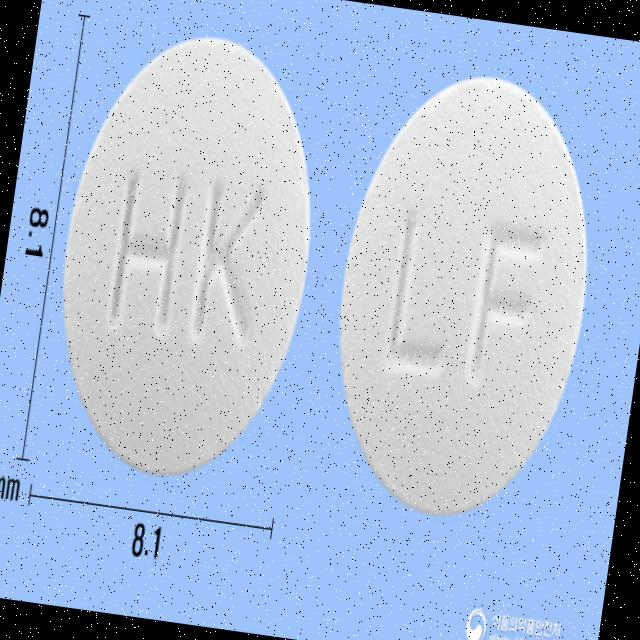Levotacin: (38, 17, 340, 490), (314, 56, 616, 528)
